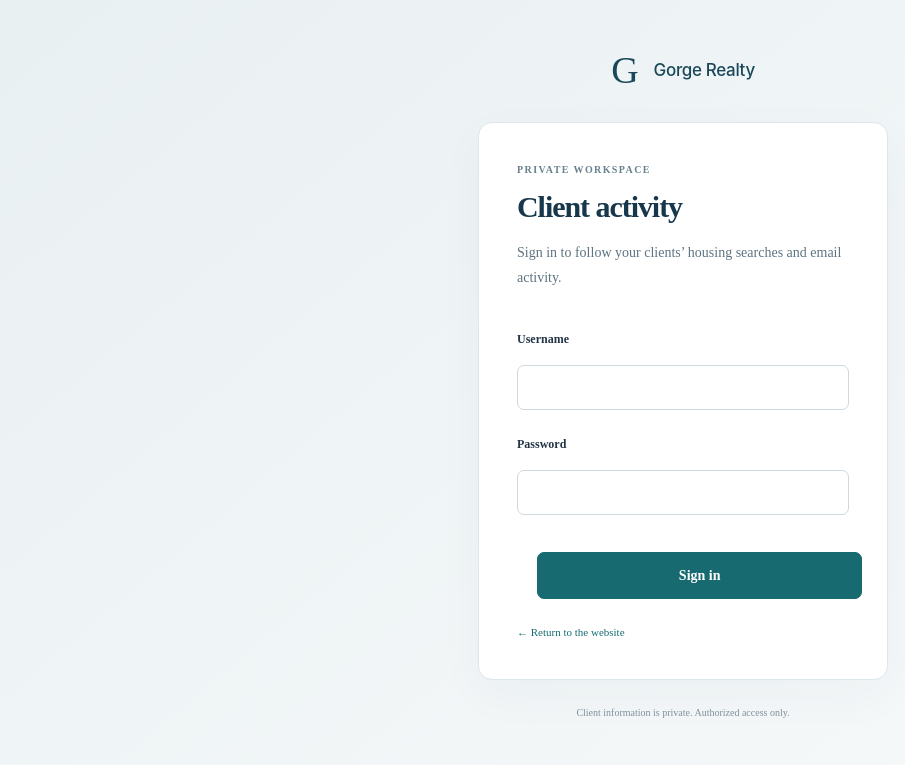
invalid credentials do not fetch client data
This screenshot has width=905, height=765.
Type "owner" into the field labelled "Username" at (683, 388), box [517,365,849,410]
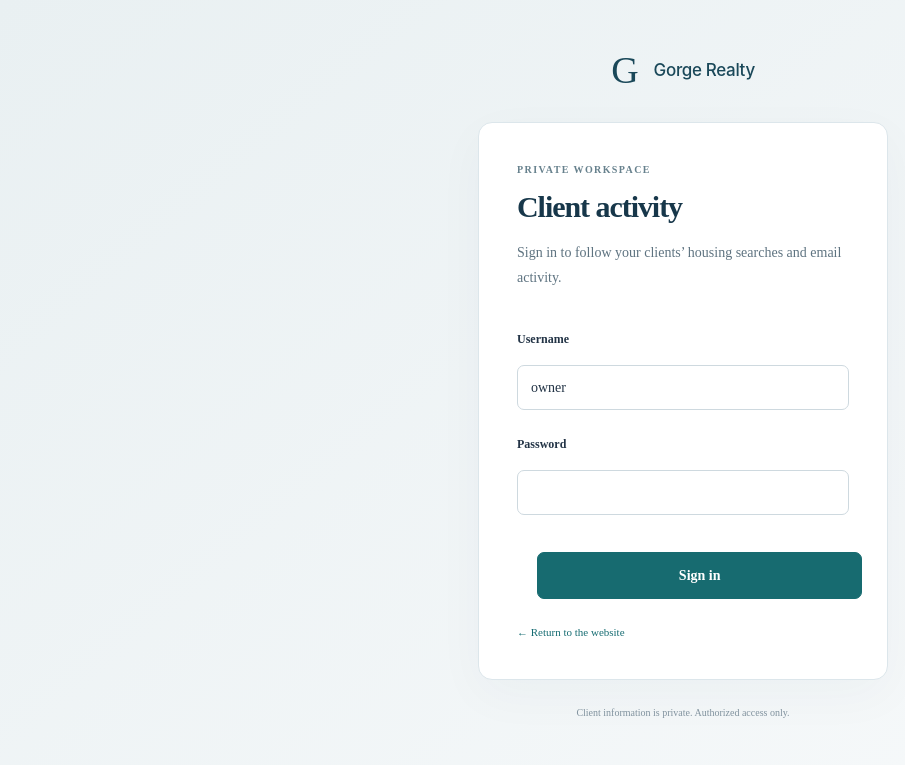
Type "synthetic-only-password" into the password field labelled "Password" at (683, 493), box [517,470,849,515]
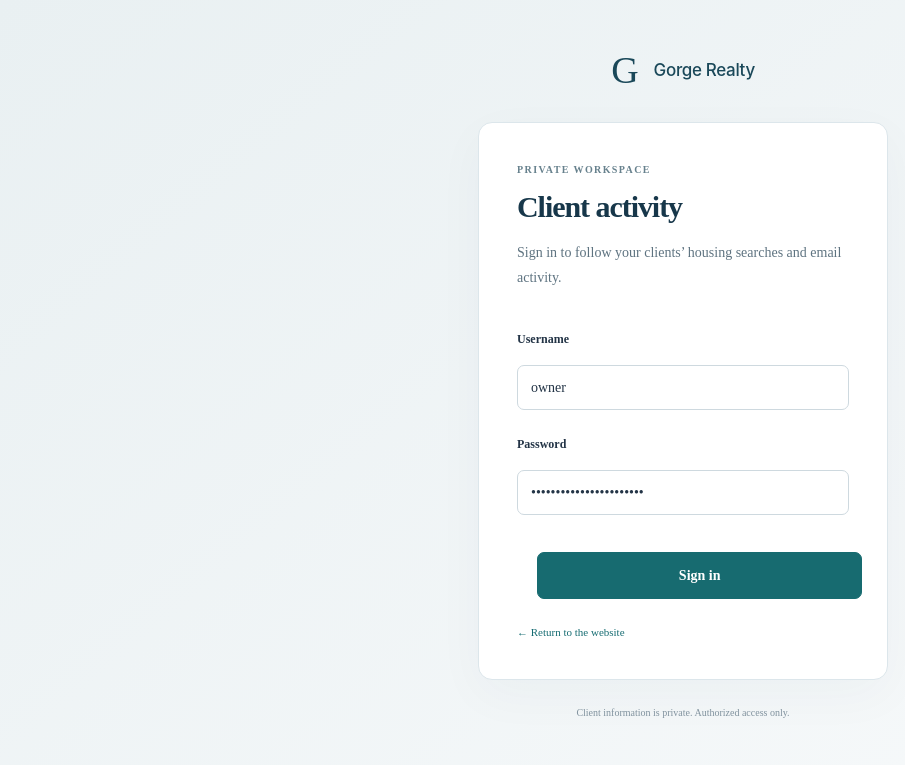
Click the button "Sign in" at (700, 576), box [537,552,862,599]
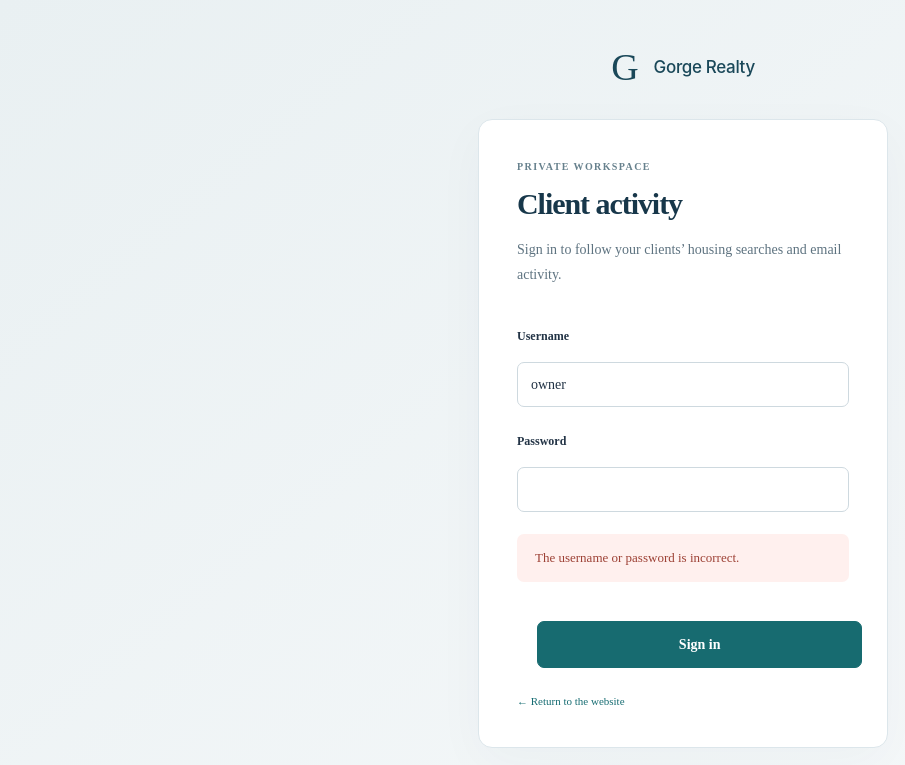
Result: the message shows "username or password is incorrect" at [535,550,739,565]
Result: the password field labelled "Password" is empty at [517,467,849,512]
